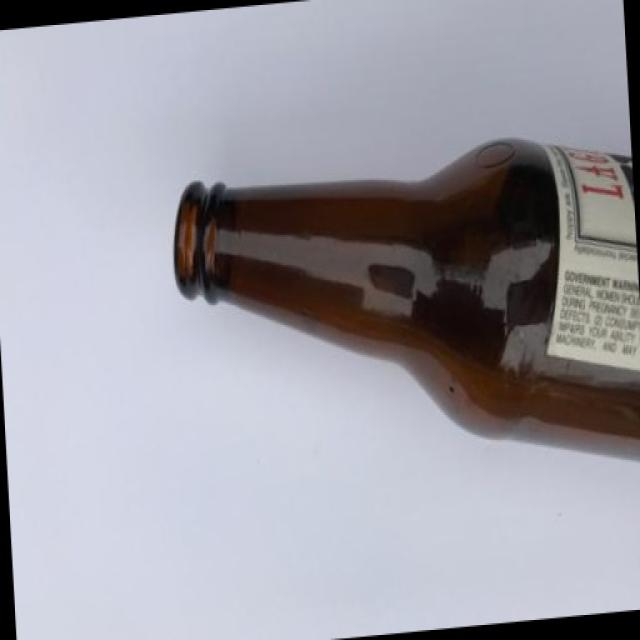vidrio: (131, 80, 640, 528)
